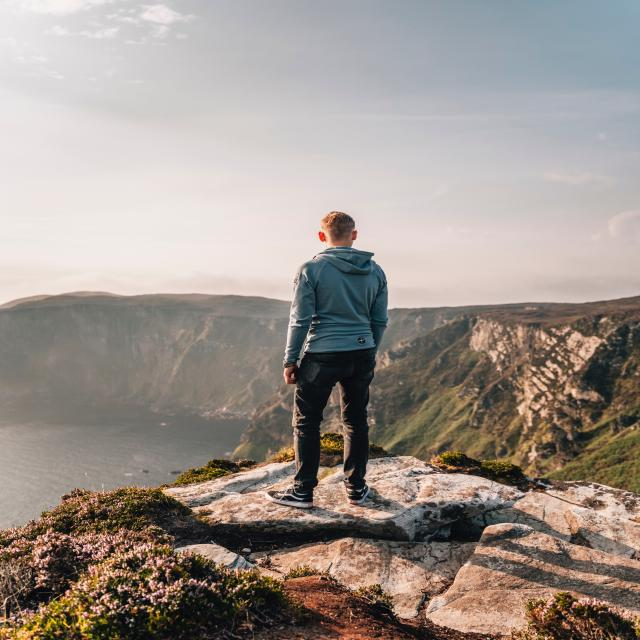standing: (259, 207, 399, 516)
